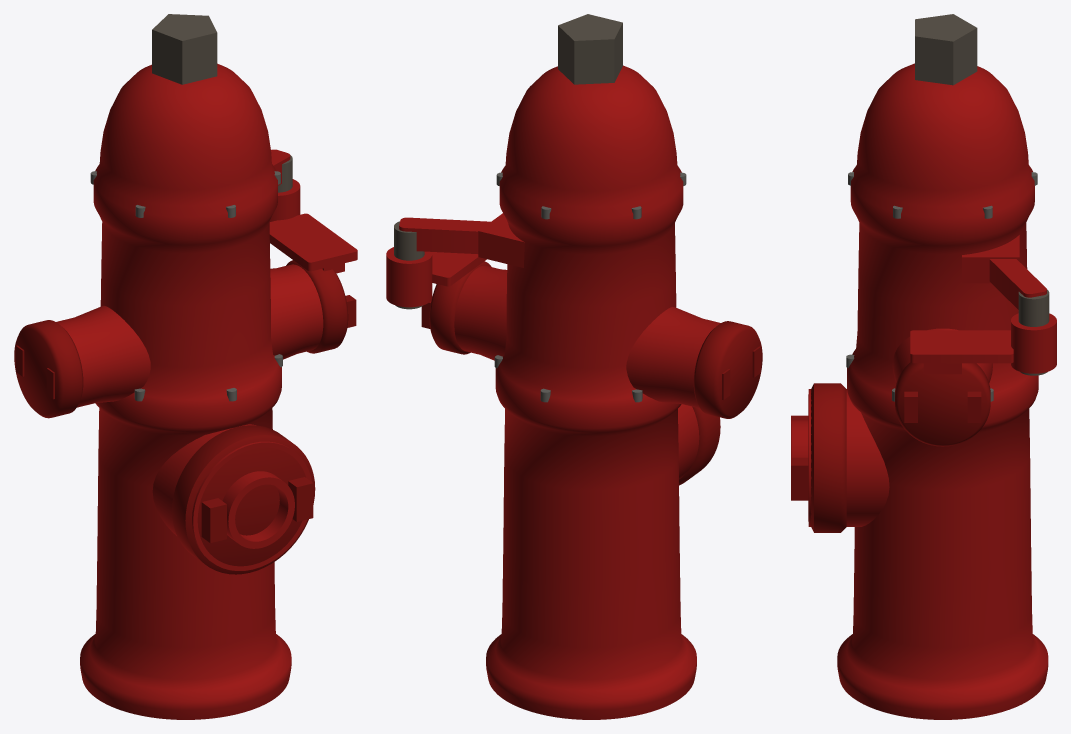
The model's file is fire-hydrant.glb.
3 views of the same model, side by side, from view 1: azimuth 30°, elevation 25°; view 2: azimuth 150°, elevation 25°; view 3: azimuth 270°, elevation 25° (orthographic).
Parts seen in each view (by area): view 1: body_casting, cap_shell, pumper_port, left_nozzle, cap_shell.001, right_nozzle, nut_body, pivot_plate, cap_shell.002, Geom, Geom.001, Geom.008 (+1 smaller); view 2: body_casting, left_nozzle, cap_shell.001, right_nozzle, nut_body, pivot_bracket_arm, Geom.008, cap_shell.002, Geom.003, cap_shell, pivot_plate, pumper_port (+2 smaller); view 3: body_casting, cap_shell.002, cap_shell, pumper_port, nut_body, pivot_plate, Geom.008, pivot_bracket_arm, Geom.003, Geom.002, Geom.001, right_nozzle (+4 smaller).
Boxes of the visible parts, x1,y1,x2,y2 form: body_casting: (80, 63, 291, 719); cap_shell: (172, 425, 315, 574); pumper_port: (152, 424, 311, 570); left_nozzle: (56, 305, 150, 407); cap_shell.001: (14, 320, 83, 418); right_nozzle: (270, 264, 323, 359); nut_body: (152, 14, 217, 84); pivot_plate: (269, 213, 357, 271); cap_shell.002: (286, 260, 348, 353); Geom: (201, 498, 226, 543); Geom.001: (288, 477, 313, 521); Geom.008: (269, 179, 300, 222); body_casting: (486, 65, 696, 719); left_nozzle: (626, 307, 720, 408); cap_shell.001: (693, 321, 762, 418); right_nozzle: (454, 265, 507, 360); nut_body: (558, 14, 622, 84); pivot_bracket_arm: (399, 217, 490, 253); Geom.008: (386, 247, 432, 307); cap_shell.002: (429, 261, 491, 354); Geom.003: (478, 213, 524, 267); cap_shell: (679, 406, 720, 485); pivot_plate: (432, 252, 486, 286); pumper_port: (678, 404, 699, 479); body_casting: (837, 63, 1048, 719); cap_shell.002: (895, 362, 990, 446); cap_shell: (808, 383, 846, 532); pumper_port: (791, 389, 889, 526); nut_body: (915, 14, 977, 85); pivot_plate: (910, 330, 1013, 363); Geom.008: (1011, 313, 1056, 373); pivot_bracket_arm: (989, 259, 1046, 309); Geom.003: (962, 235, 1019, 283); Geom.002: (1018, 289, 1049, 375); Geom.001: (791, 457, 808, 500); right_nozzle: (892, 328, 992, 382).
Bounding box in the file's own units: 0.3704 × 0.75 × 0.2773.
